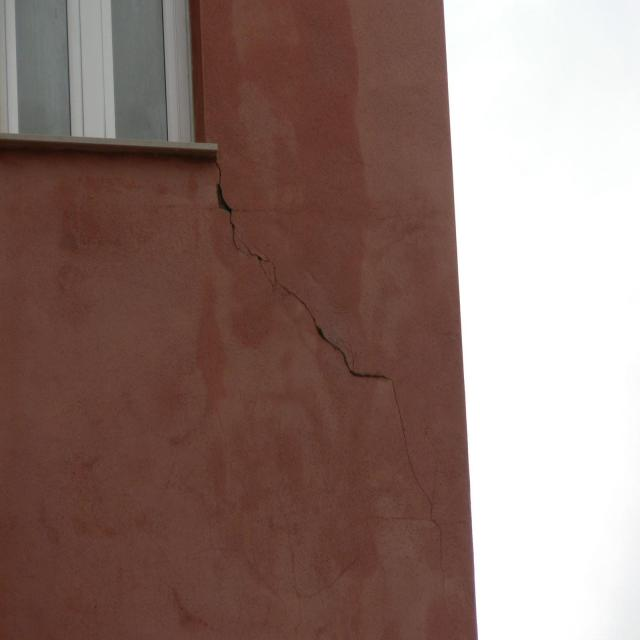crack: (215, 159, 446, 565)
